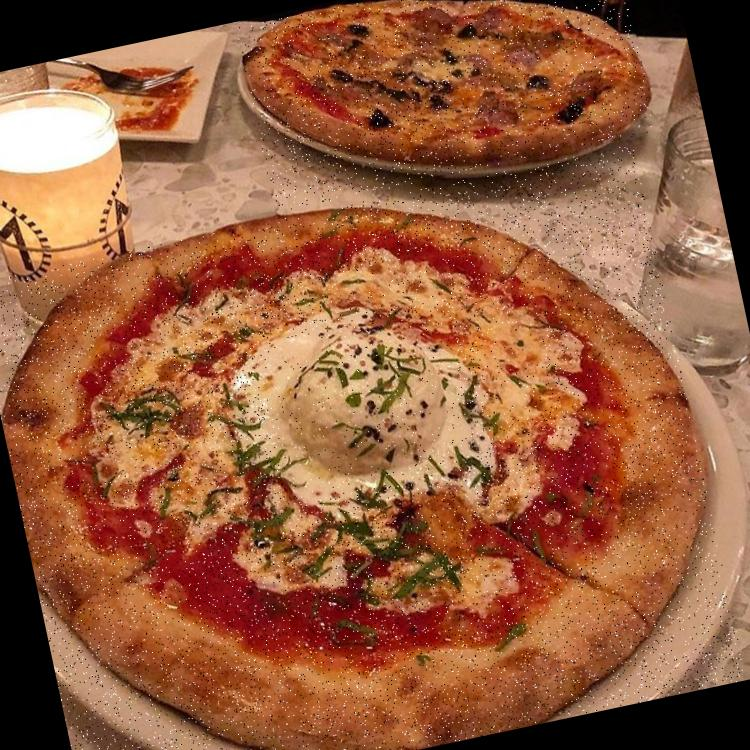Cheese: (254, 307, 475, 504), (124, 367, 225, 490), (324, 248, 465, 316), (477, 302, 558, 419), (166, 282, 290, 356), (301, 518, 313, 526)
Pizza: (0, 143, 746, 750), (236, 0, 657, 213)
